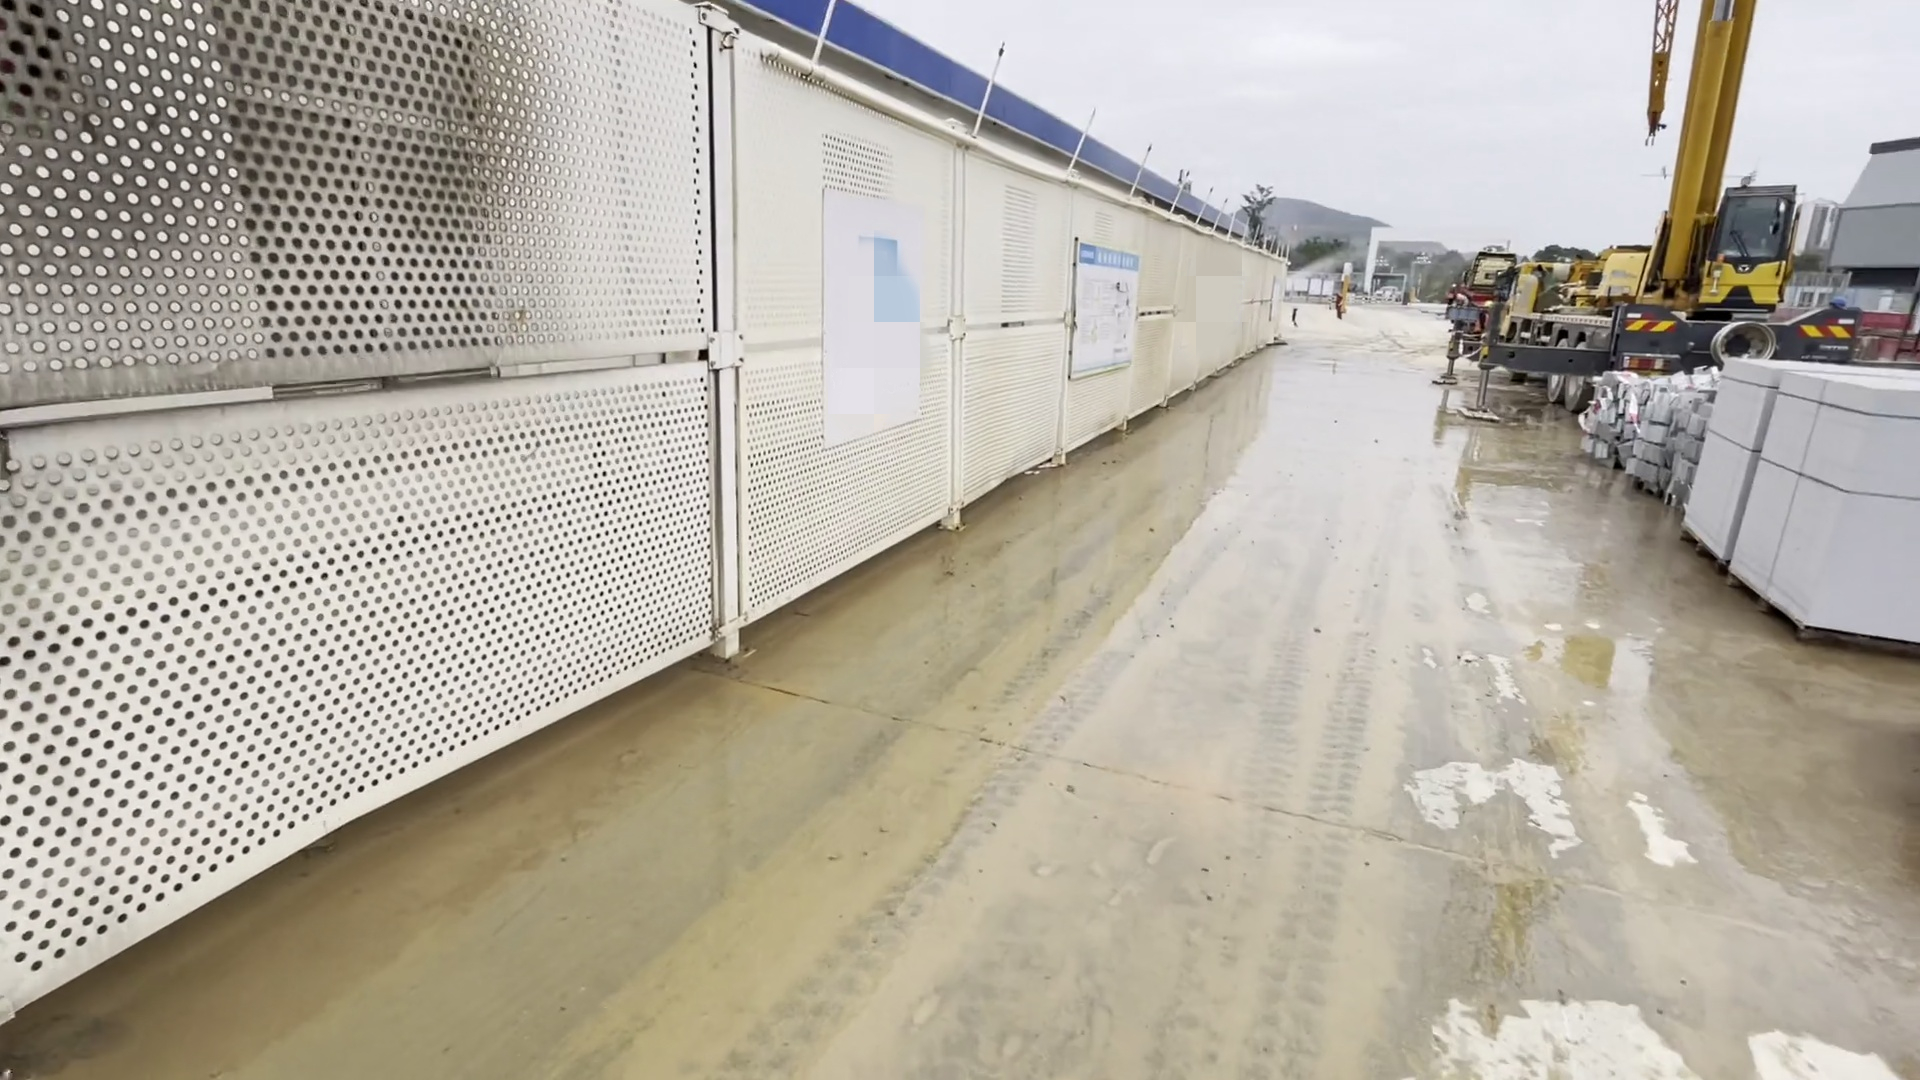brick: (1704, 357, 1920, 651)
slogan: (1060, 235, 1147, 388)
